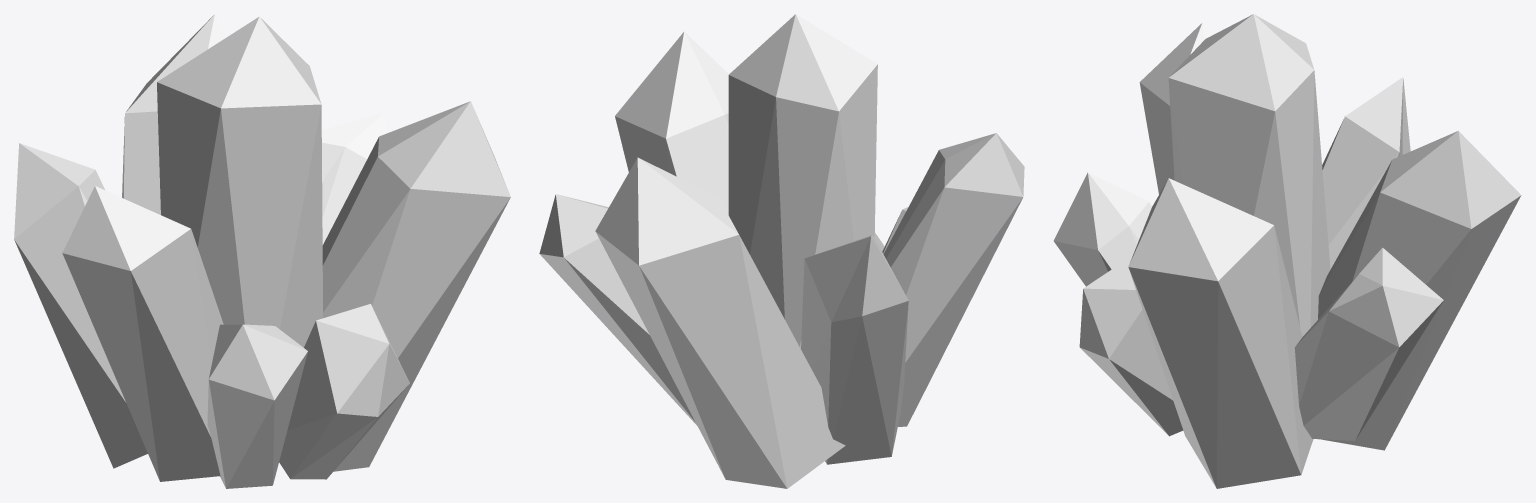
File: white_crystal_block.obj
3 renders of one model, left to right at view 1: azimuth 30°, elevation 25°; view 2: azimuth 150°, elevation 25°; view 3: azimuth 270°, elevation 25°, orthographic. The views are drawn at different scales.
Parts seen in each view (by area): view 1: Icosphere.036_Icosphere.037; view 2: Icosphere.036_Icosphere.037; view 3: Icosphere.036_Icosphere.037.
Part boxes in pixels (bbox=[...]): Icosphere.036_Icosphere.037: bbox=[14, 14, 510, 488]; Icosphere.036_Icosphere.037: bbox=[539, 14, 1024, 488]; Icosphere.036_Icosphere.037: bbox=[1053, 14, 1521, 488].
Size of the model in its own units: 1.01 by 1.01 by 0.9894.
